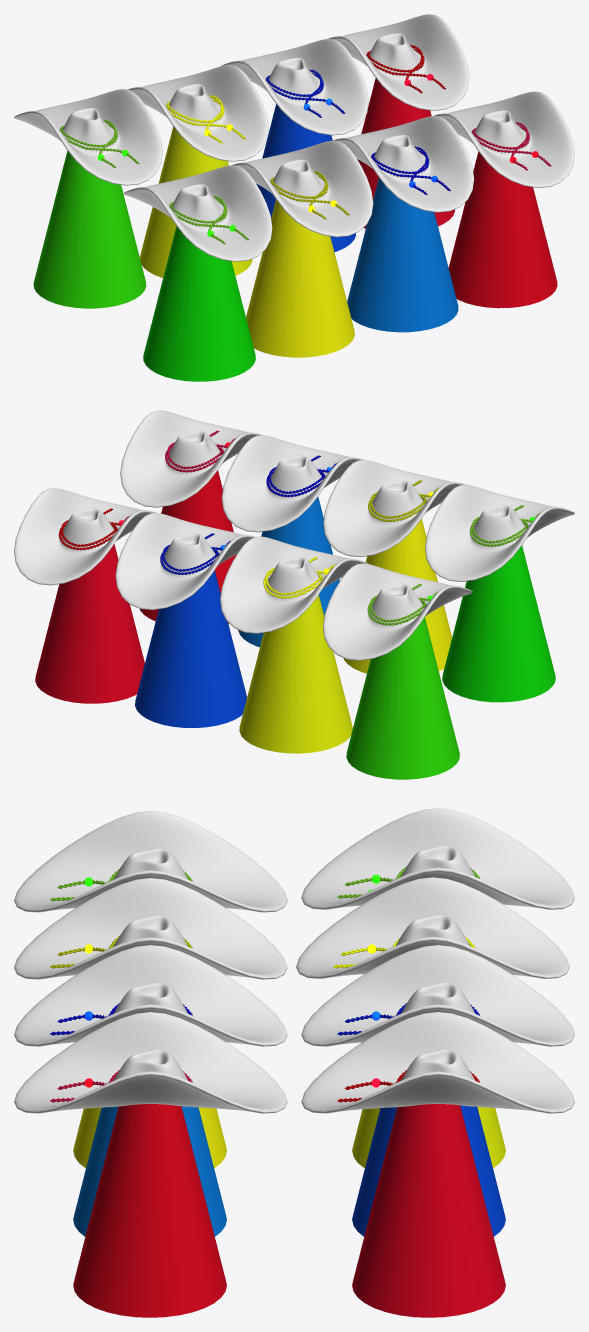
Rendered from HATS.fbx.
The picture shows the model from 3 angles, top to bottom: view 1: azimuth 30°, elevation 25°; view 2: azimuth 150°, elevation 25°; view 3: azimuth 270°, elevation 25°; orthographic projection. The views are drawn at different scales.
Parts seen in each view (by area): view 1: Cylinder.004, Cylinder, Cylinder.002, Cylinder.001, Cylinder.003, Circle.018, Circle.006, Circle.010, Circle.012, Circle.001, Circle.005, Circle.014 (+12 smaller); view 2: Cylinder.004, Cylinder, Cylinder.005, Cylinder.006, Cylinder.007, Circle.006, Circle.018, Circle.010, Circle.012, Circle.003, Circle.005, Circle.014 (+12 smaller); view 3: Cylinder.003, Cylinder.007, Circle.014, Circle.005, Circle.018, Circle.010, Circle.006, Circle.001, Circle.012, Circle.003, Cylinder.006, Cylinder.002 (+2 smaller).
Boxes of the visible parts, x1,y1,x2,y2 form: Cylinder.004: (33,150,146,308); Cylinder: (143,226,255,381); Cylinder.002: (347,178,458,332); Cylinder.001: (246,200,354,357); Cylinder.003: (448,151,557,308); Circle.018: (14,89,162,185); Circle.006: (123,165,272,261); Circle.010: (127,65,268,161); Circle.012: (221,38,368,135); Circle.001: (231,140,373,237); Circle.005: (433,91,574,187); Circle.014: (327,14,469,110); Cylinder.004: (346,617,459,779); Cylinder: (442,545,555,702); Cylinder.005: (239,595,352,753); Cylinder.006: (135,570,246,727); Cylinder.007: (35,544,144,703); Circle.006: (425,484,574,581); Circle.018: (323,563,472,660); Circle.010: (220,536,368,633); Circle.012: (115,513,255,609); Circle.003: (221,435,364,532); Circle.005: (120,410,263,507); Circle.014: (14,488,156,585); Cylinder.003: (73,1104,226,1317); Cylinder.007: (352,1104,505,1317); Circle.014: (301,1012,574,1113); Circle.005: (14,1012,287,1113); Circle.018: (301,808,574,909); Circle.010: (296,877,569,978); Circle.006: (14,811,287,912); Circle.001: (14,878,287,979); Circle.012: (301,945,574,1046); Circle.003: (14,945,287,1046); Cylinder.006: (352,1105,505,1236); Cylinder.002: (73,1106,226,1236).
Bounding box in the file's own units: 497 × 209 × 436.
